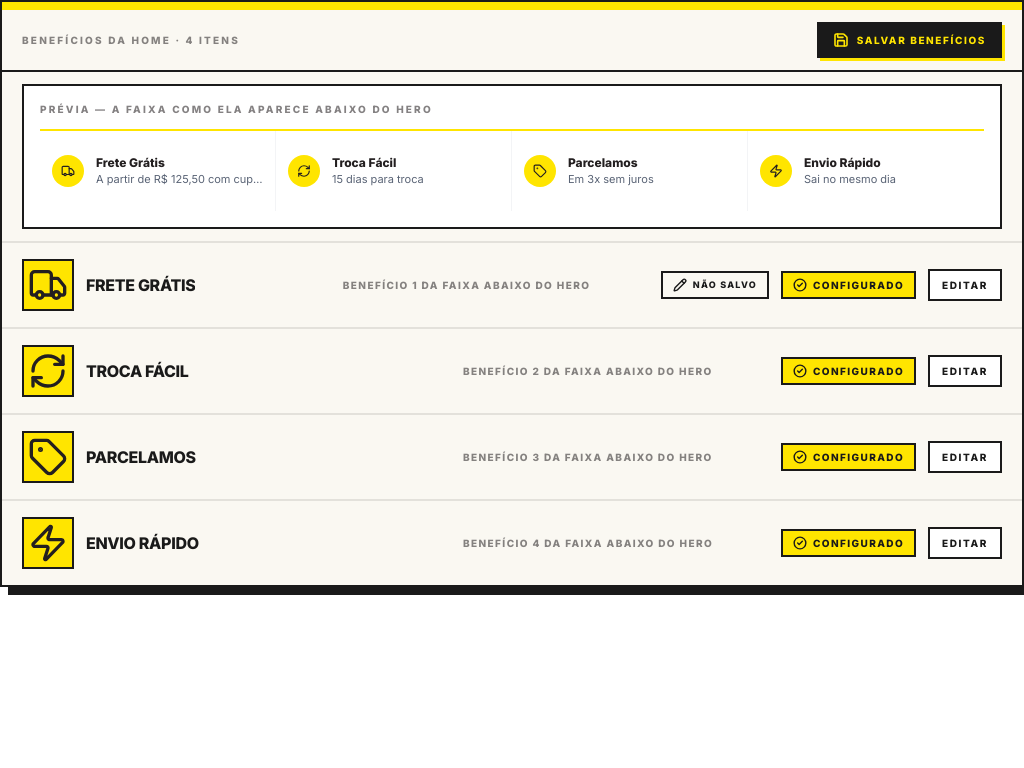
Test case: FeaturesGroup › resolve o token na prévia enquanto o editor mostra o chip
The image size is (1024, 768).
Check: the text "A partir de R$ 125,50 com cupom" is shown, box [96,171,263,187]
Click the button with aria-label "editar frete grátis" at x=965, y=285, box [928,269,1002,301]
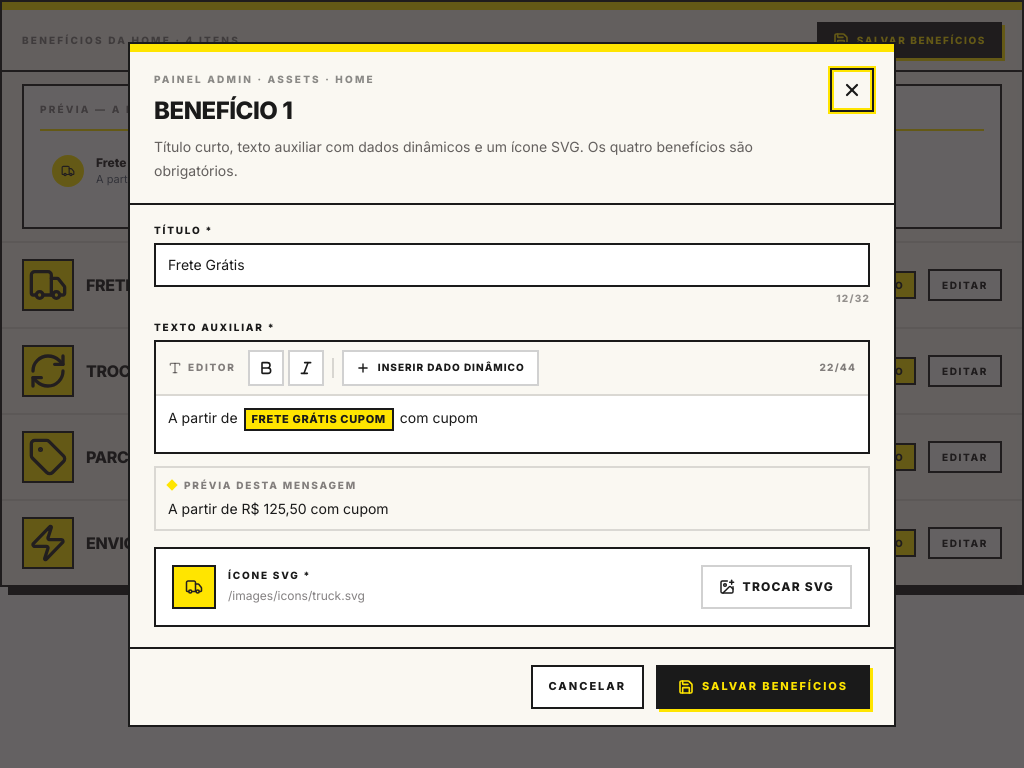
Check: the text "Frete grátis cupom" is shown, box [244,408,394,431]
